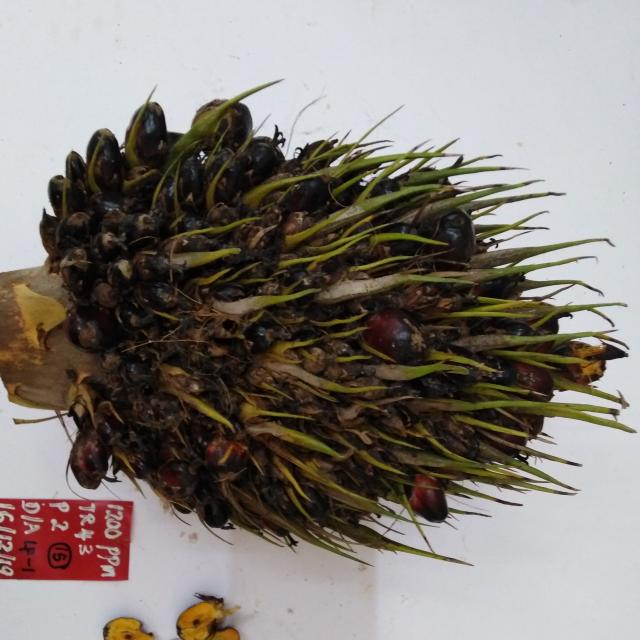FFB: (38, 106, 623, 557)
